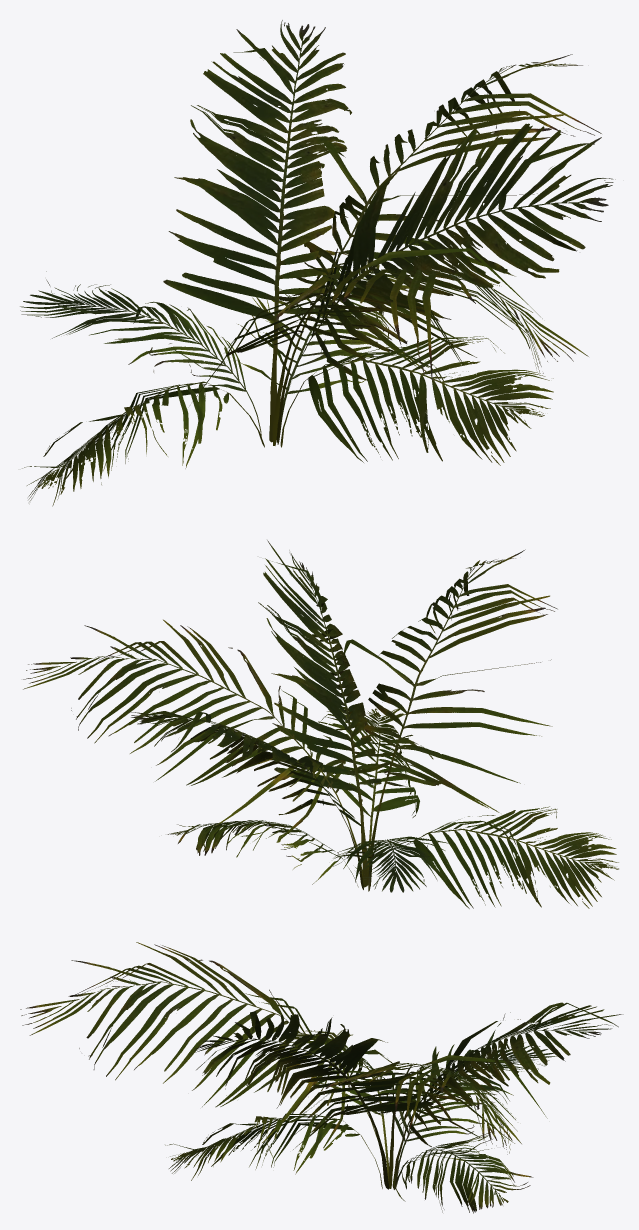
Rendered from QuixelPalmLeavesC.glb.
3 renders of one model, top to bottom at view 1: azimuth 30°, elevation 25°; view 2: azimuth 150°, elevation 25°; view 3: azimuth 270°, elevation 25°, orthographic. The views are drawn at different scales.
Parts seen in each view (by area): view 1: _3249_VarC_LOD2; view 2: _3249_VarC_LOD2; view 3: _3249_VarC_LOD2.
Part boxes in pixels (x1,y1,x2,y2): _3249_VarC_LOD2: (20, 20, 615, 506); _3249_VarC_LOD2: (23, 540, 618, 908); _3249_VarC_LOD2: (20, 942, 623, 1213).
Size of the model in its own units: 3.3 by 1.57 by 3.31.
Materials: 1 (1 with a texture image).
